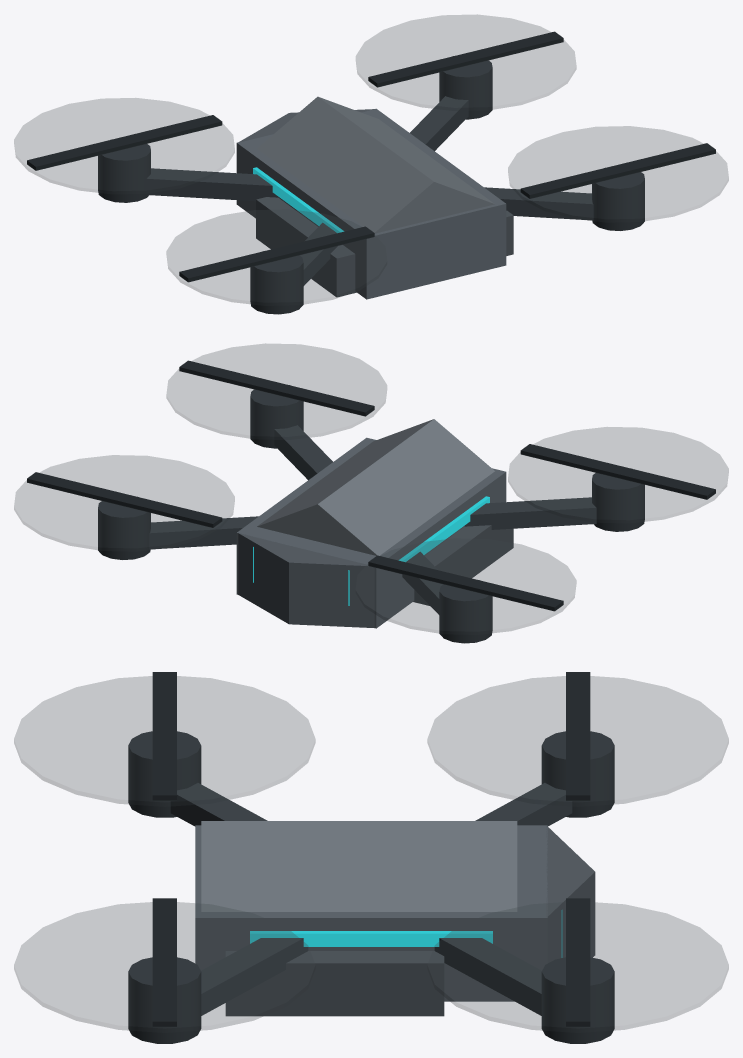
The model's file is drone_modular.glb.
3 renders of one model, top to bottom at view 1: azimuth 30°, elevation 25°; view 2: azimuth 150°, elevation 25°; view 3: azimuth 270°, elevation 25°, orthographic. The views are drawn at different scales.
Parts seen in each view (by area): view 1: Canopy, Disc1, Disc2, Disc4, Disc3, Hull, Skid, Arm1, Motor2, Motor4, Motor1, Rotor2 (+9 smaller); view 2: Canopy, Disc2, Disc1, Disc3, Disc4, Nose, Hull, Arm2, Skid, Motor1, Motor3, Motor2 (+9 smaller); view 3: Canopy, Disc1, Disc2, Disc3, Disc4, Hull, Skid2, Motor3, Motor4, Arm3, Arm4, Nose (+9 smaller).
Boxes of the visible parts, box(x1,y1,x2,y2) form: Canopy: box(257, 96, 494, 233); Disc1: box(14, 98, 234, 193); Disc2: box(166, 209, 386, 305); Disc4: box(508, 126, 728, 222); Disc3: box(356, 14, 576, 110); Hull: box(236, 108, 506, 299); Skid: box(256, 197, 356, 297); Arm1: box(146, 168, 278, 201); Motor2: box(250, 251, 303, 314); Motor4: box(592, 167, 644, 230); Motor1: box(98, 139, 150, 202); Rotor2: box(179, 226, 374, 282); Canopy: box(257, 419, 494, 555); Disc2: box(508, 427, 728, 522); Disc1: box(356, 538, 576, 634); Disc3: box(14, 455, 234, 551); Disc4: box(166, 343, 386, 439); Nose: box(238, 532, 374, 627); Hull: box(236, 437, 506, 628); Arm2: box(464, 497, 596, 529); Skid: box(413, 525, 513, 605); Motor1: box(439, 580, 492, 643); Motor3: box(98, 496, 150, 559); Motor2: box(592, 468, 644, 531); Canopy: box(201, 821, 517, 911); Disc1: box(427, 676, 728, 806); Disc2: box(14, 676, 315, 806); Disc3: box(427, 902, 728, 1032); Disc4: box(14, 902, 315, 1032); Hull: box(195, 825, 547, 1001); Skid2: box(225, 951, 444, 1016); Motor3: box(541, 957, 614, 1043); Motor4: box(128, 957, 201, 1043); Arm3: box(434, 938, 541, 1015); Arm4: box(201, 938, 308, 1015); Nose: box(546, 826, 595, 963).
Size of the model in its own units: 3.44 by 0.62 by 2.94.
